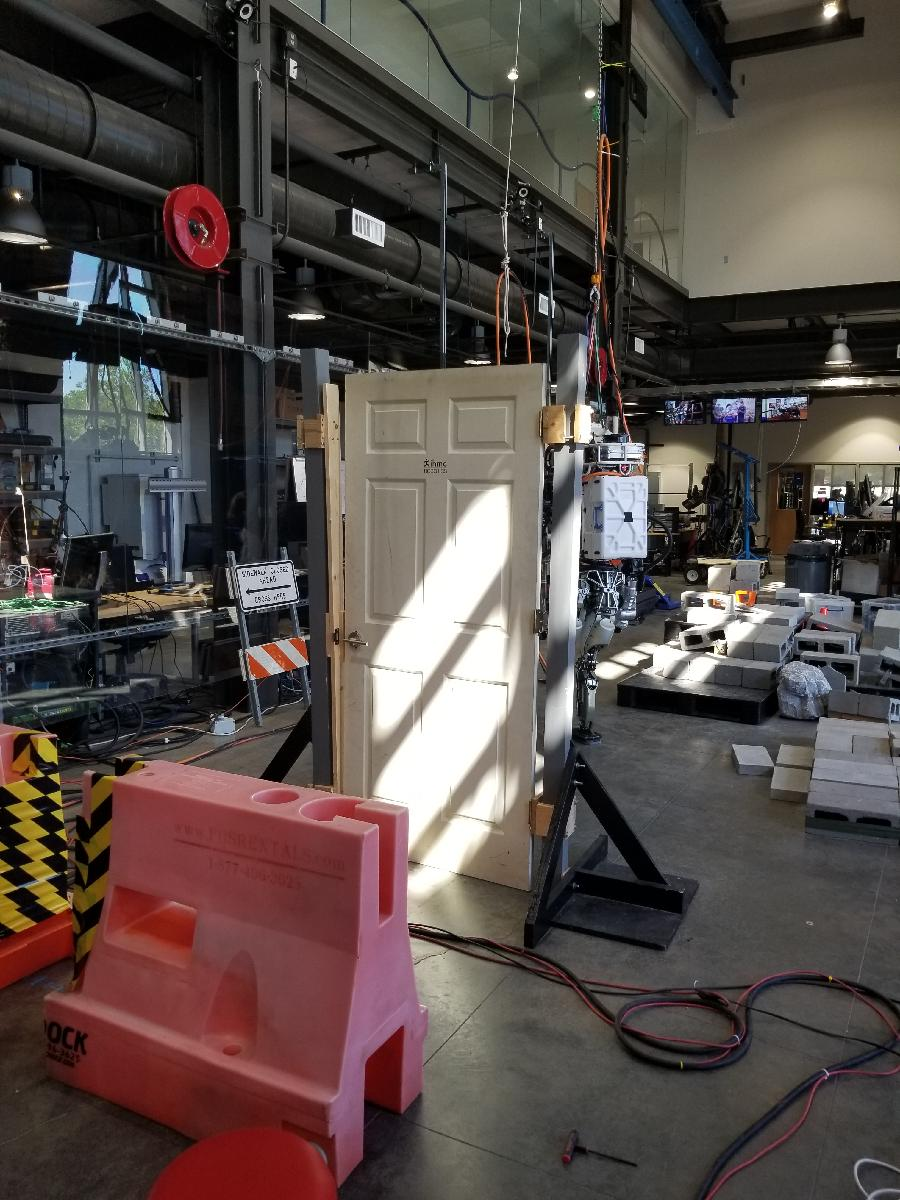door: (335, 362, 548, 907)
doorHandle: (346, 635, 376, 655)
